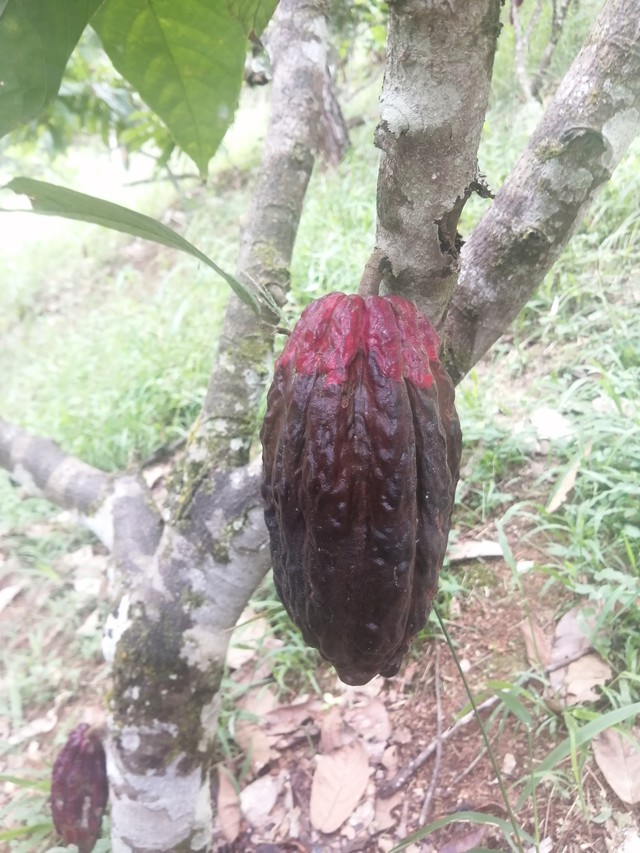phytophthora palmivora: (245, 283, 475, 694)
